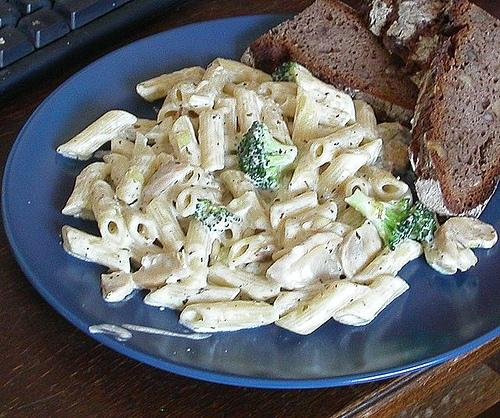broccoli: (344, 188, 436, 250), (237, 120, 298, 190), (193, 198, 241, 232), (271, 62, 310, 83)
